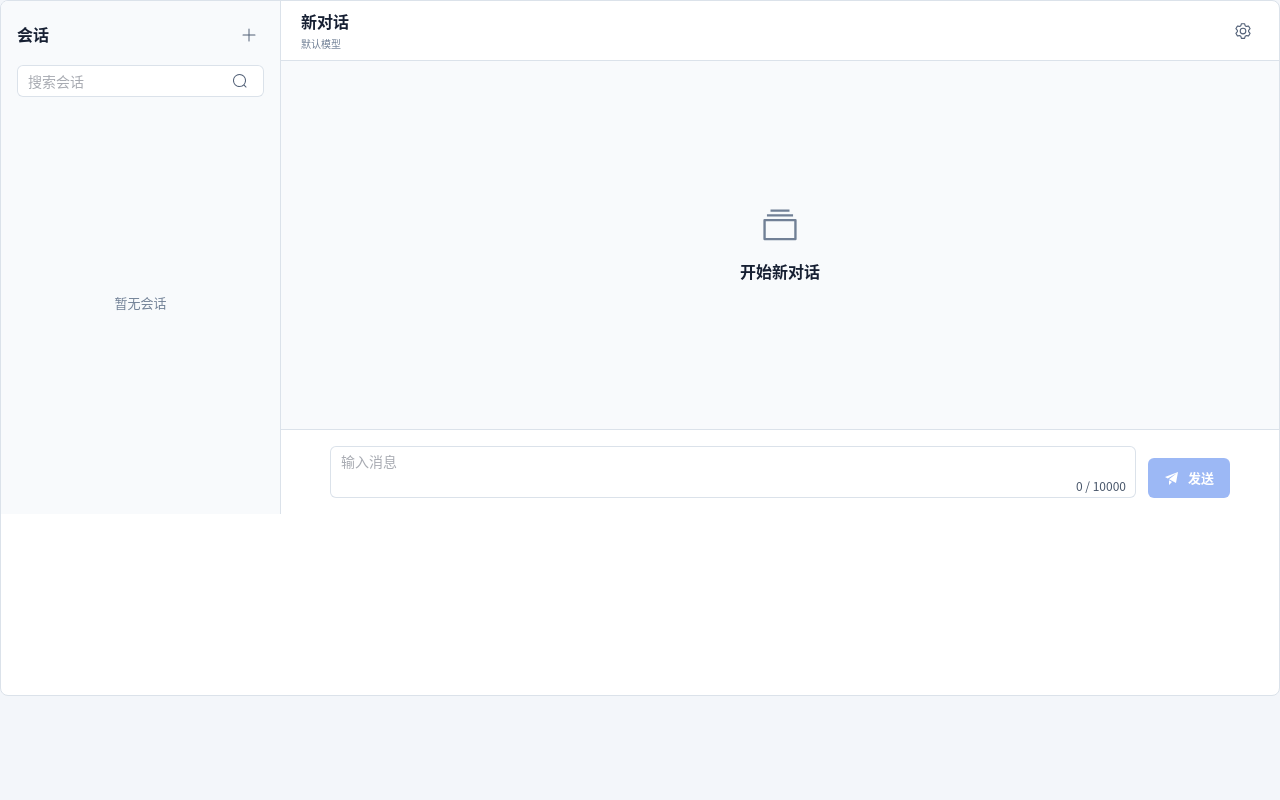
Scenario: AiChatPage › streams a new conversation into the message view
The width and height of the screenshot is (1280, 800).
In the text box named "消息内容": x=733, y=472 left=330, top=446, right=1136, bottom=498, type "你好"
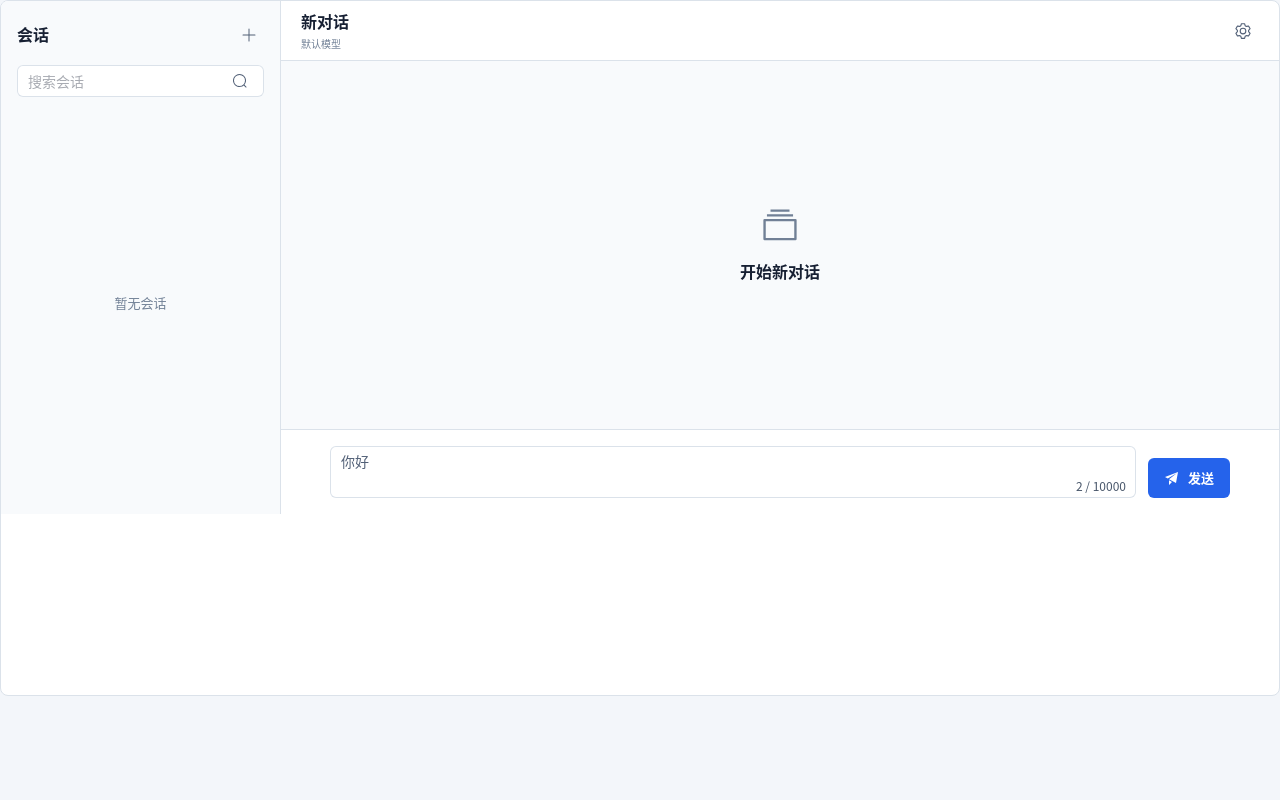
Click the button with class "chat-composer__button--send": x=1189, y=478 left=1148, top=458, right=1230, bottom=498
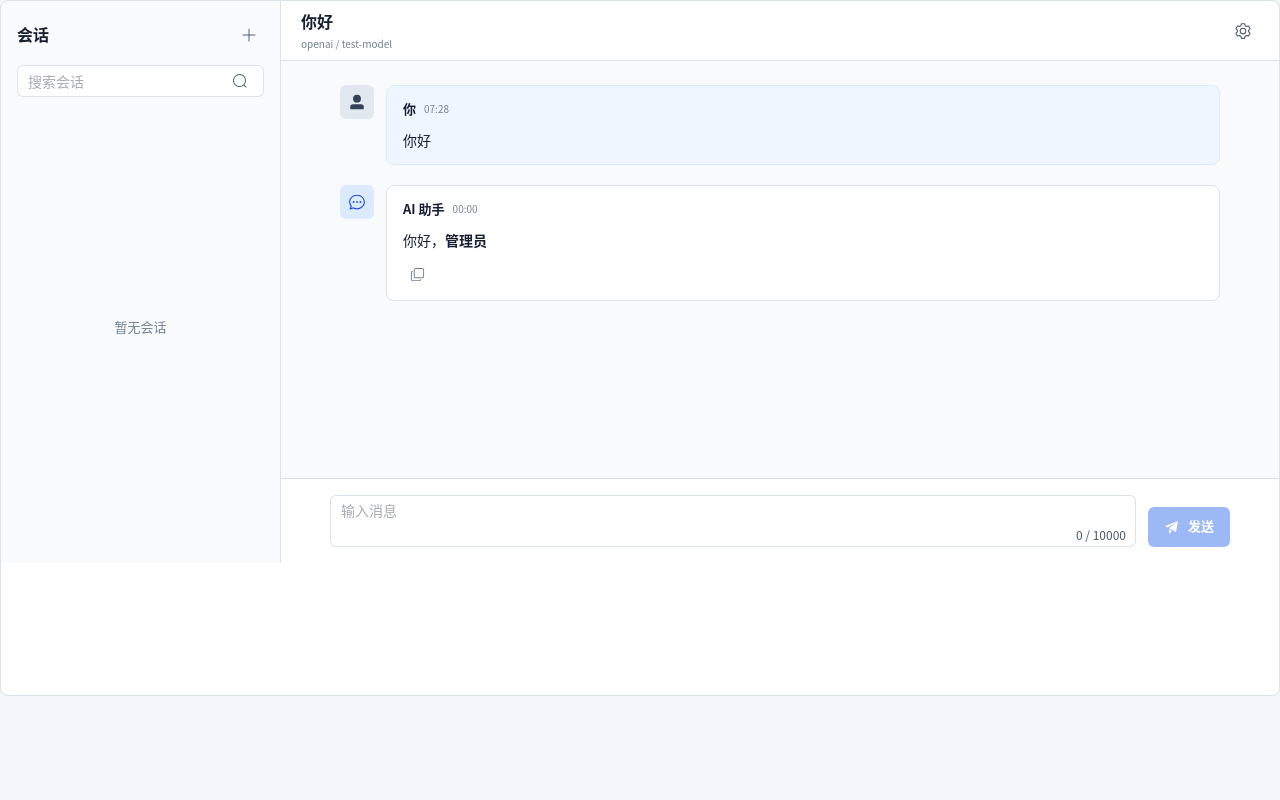
Check: the text "你好" is shown, box left=301, top=9, right=333, bottom=33
Check: the text "管理员" is shown, box left=445, top=230, right=487, bottom=250
